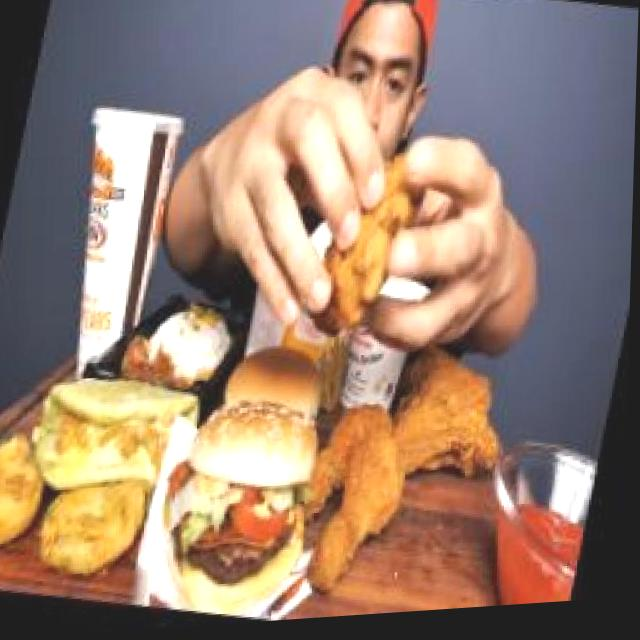AW cola: (41, 72, 216, 385)
black pepper rice bowl: (110, 282, 248, 414)
cheese burger: (207, 322, 343, 449)
fried chicken: (282, 317, 527, 624), (306, 123, 450, 358)
mango chicken pocket: (18, 364, 209, 513)
mozza burger: (143, 382, 334, 632)
perkedel: (29, 445, 172, 598), (0, 409, 60, 586)
